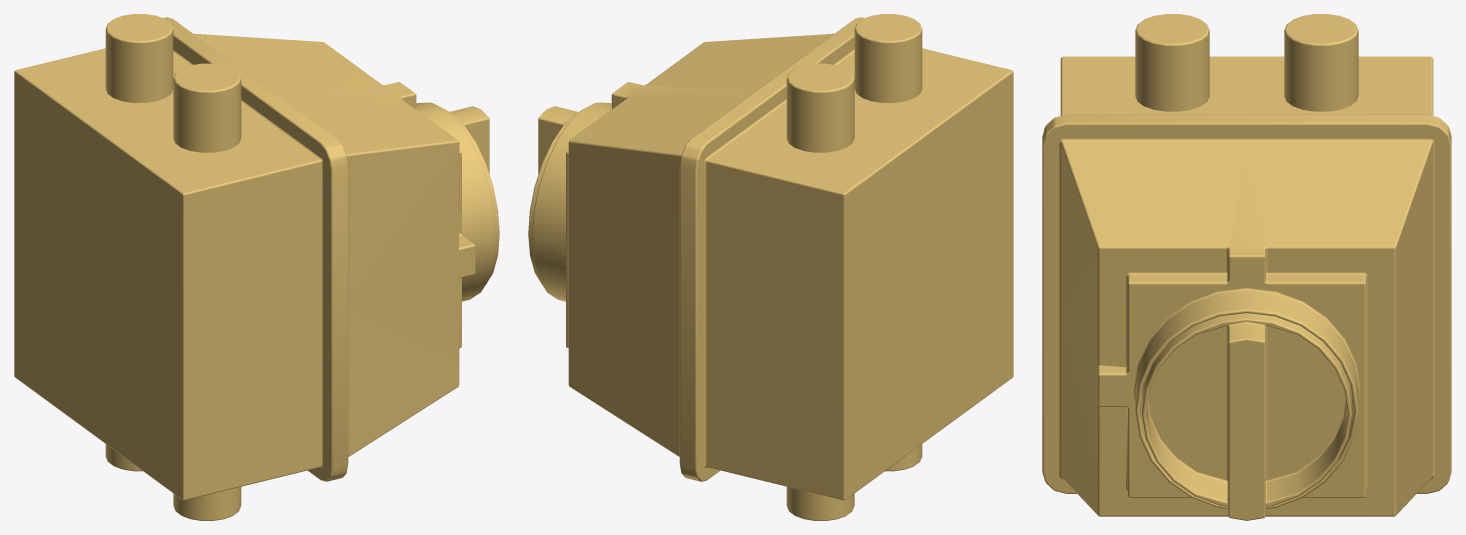
File: Emergency-Switch.fbx
3 views of the same model, side by side, from view 1: azimuth 30°, elevation 25°; view 2: azimuth 150°, elevation 25°; view 3: azimuth 270°, elevation 25° (orthographic). The views are drawn at different scales.
Visible parts, largest first — view 1: Emergency-Switch, Emergency-Swtich-Knob; view 2: Emergency-Switch, Emergency-Swtich-Knob; view 3: Emergency-Switch, Emergency-Swtich-Knob.
Part boxes in pixels (<box>): Emergency-Switch: <box>14,14,495,520</box>; Emergency-Swtich-Knob: <box>447,106,499,285</box>; Emergency-Switch: <box>532,14,1013,520</box>; Emergency-Swtich-Knob: <box>528,106,580,285</box>; Emergency-Switch: <box>1042,14,1451,516</box>; Emergency-Swtich-Knob: <box>1142,313,1351,520</box>.
Bounding box in the file's own units: 13.06 × 14 × 11.
